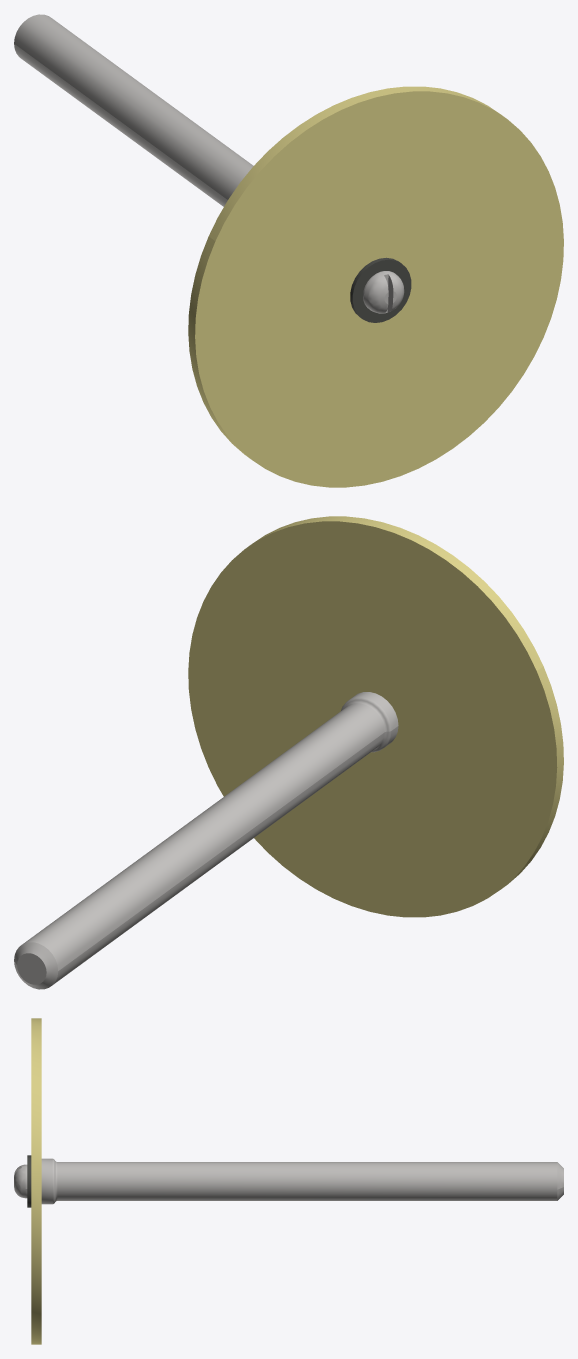
3 views of the same model, one above another, from view 1: azimuth 30°, elevation 25°; view 2: azimuth 150°, elevation 25°; view 3: azimuth 270°, elevation 25° (orthographic). The views are drawn at different scales.
Size of the model in its own units: 25 by 25 by 42.12.
